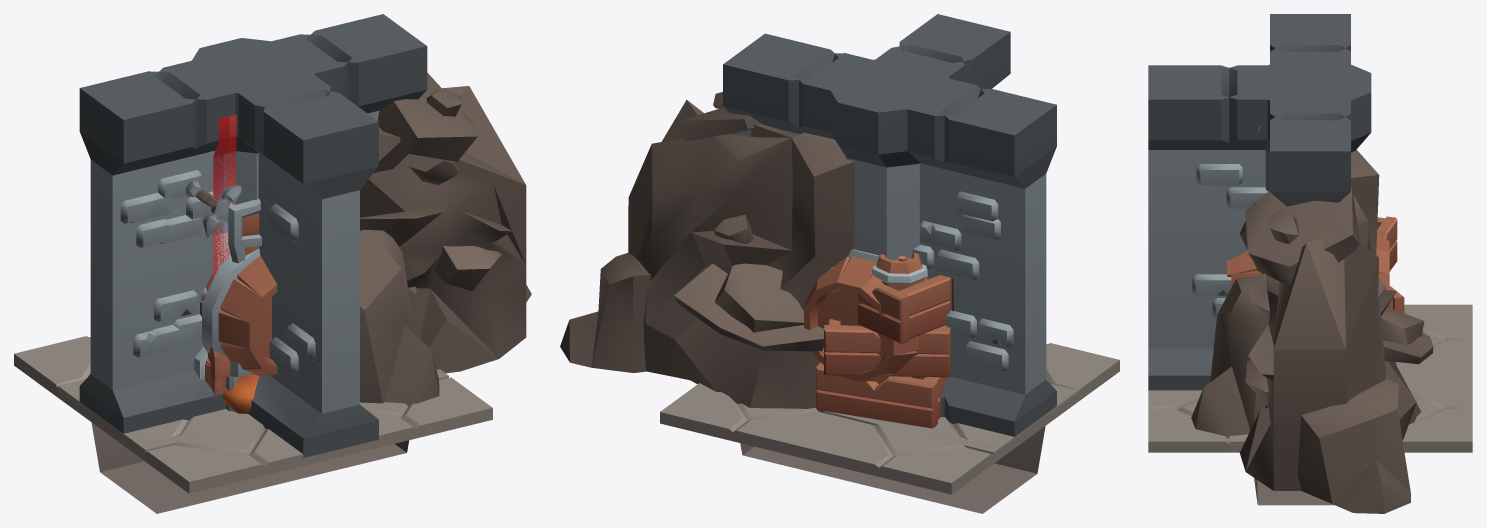
File: raum.glb
3 views of the same model, side by side, from view 1: azimuth 30°, elevation 25°; view 2: azimuth 150°, elevation 25°; view 3: azimuth 270°, elevation 25° (orthographic). The views are drawn at different scales.
Visible parts, largest first — view 1: wall_corner, wall, rubble_half, floor_tile_large, wall_doorway, floor_tile_grate, keg, banner_shield_red, pillar, crates_stacked, banner_patternC_blue, chest_gold_lid (+1 smaller); view 2: rubble_half, wall, floor_tile_large, wall_corner, crates_stacked, pillar, wall_doorway, floor_tile_grate, keg, wall_gated; view 3: rubble_half, wall_corner, wall, floor_tile_large, wall_doorway, pillar, keg, floor_tile_grate, crates_stacked.
Boxes of the visible parts, bbox=[...] form: wall_corner: bbox=[80, 51, 378, 457]; wall: bbox=[79, 14, 427, 433]; rubble_half: bbox=[360, 73, 531, 406]; floor_tile_large: bbox=[14, 336, 492, 493]; wall_doorway: bbox=[79, 14, 416, 412]; floor_tile_grate: bbox=[58, 369, 448, 513]; keg: bbox=[200, 248, 277, 376]; banner_shield_red: bbox=[185, 91, 332, 278]; pillar: bbox=[192, 38, 315, 204]; crates_stacked: bbox=[222, 374, 259, 413]; banner_patternC_blue: bbox=[213, 152, 235, 277]; chest_gold_lid: bbox=[203, 344, 253, 379]; rubble_half: bbox=[560, 92, 855, 408]; wall: bbox=[723, 33, 1056, 436]; floor_tile_large: bbox=[660, 343, 1119, 494]; wall_corner: bbox=[854, 14, 1056, 435]; crates_stacked: bbox=[816, 253, 954, 428]; pillar: bbox=[830, 59, 948, 383]; wall_doorway: bbox=[724, 46, 1056, 428]; floor_tile_grate: bbox=[740, 384, 1077, 513]; keg: bbox=[804, 249, 927, 383]; wall_gated: bbox=[920, 164, 1025, 393]; rubble_half: bbox=[1191, 149, 1433, 513]; wall_corner: bbox=[1148, 48, 1350, 390]; wall: bbox=[1270, 14, 1350, 206]; floor_tile_large: bbox=[1148, 304, 1472, 452]; wall_doorway: bbox=[1270, 14, 1350, 201]; pillar: bbox=[1249, 64, 1371, 191]; keg: bbox=[1227, 235, 1389, 307]; floor_tile_grate: bbox=[1229, 435, 1334, 505]; crates_stacked: bbox=[1377, 216, 1404, 313].
Size of the model in its own units: 6 by 4.98 by 4.
Materials: 1 (1 with a texture image).
